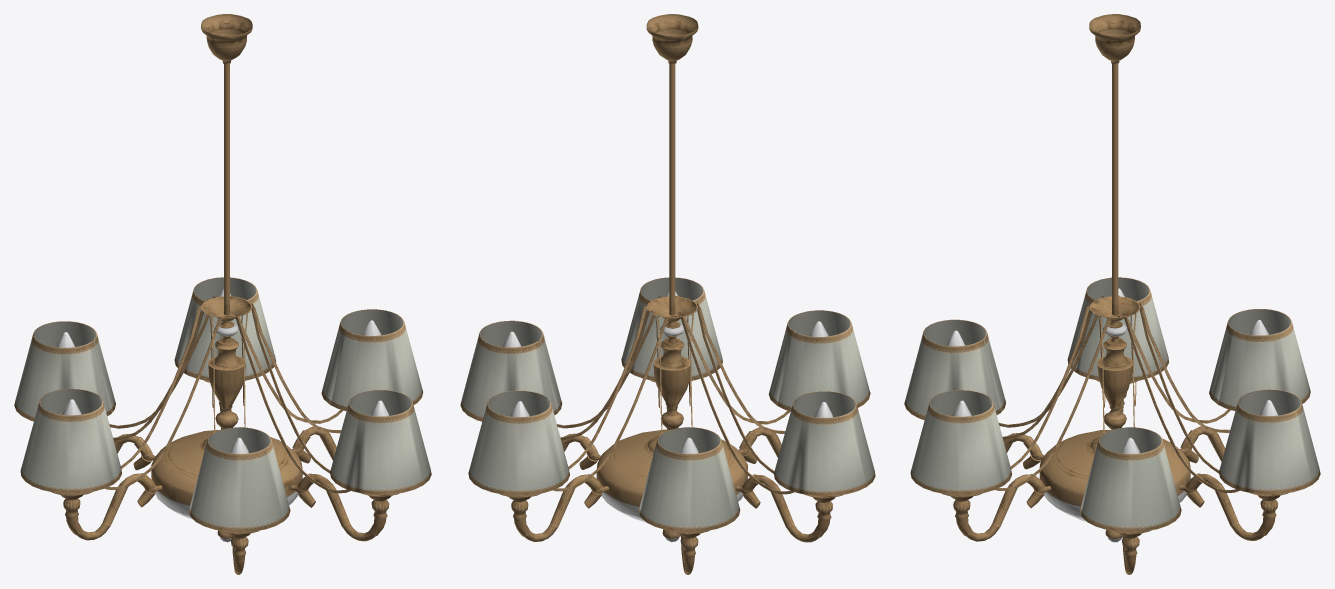
File: ph_Chandelier_02.glb
3 views of the same model, side by side, from view 1: azimuth 30°, elevation 25°; view 2: azimuth 150°, elevation 25°; view 3: azimuth 270°, elevation 25° (orthographic).
Visible parts, largest first — view 1: Chandelier_02; view 2: Chandelier_02; view 3: Chandelier_02.
Part boxes in pixels (x1,y1,x2,y2): Chandelier_02: (14,14,431,574); Chandelier_02: (460,14,875,574); Chandelier_02: (904,14,1320,574).
Size of the model in its own units: 0.6791 by 0.8481 by 0.6194.
2 materials, 1 textured.
